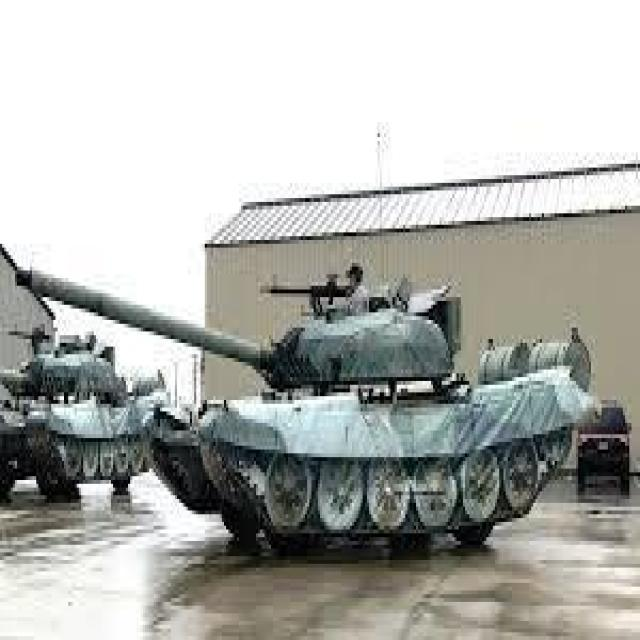Tanks: (153, 252, 594, 568), (4, 299, 158, 516)
